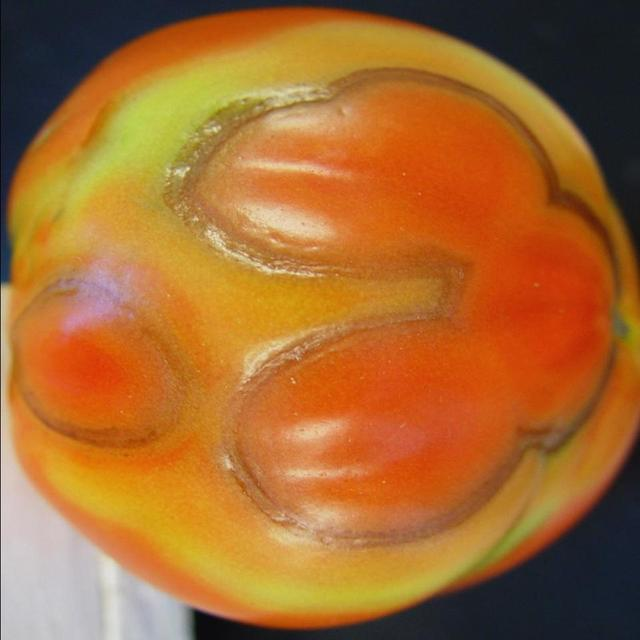Spotted wilt Virus Fruit: (4, 4, 427, 418)
